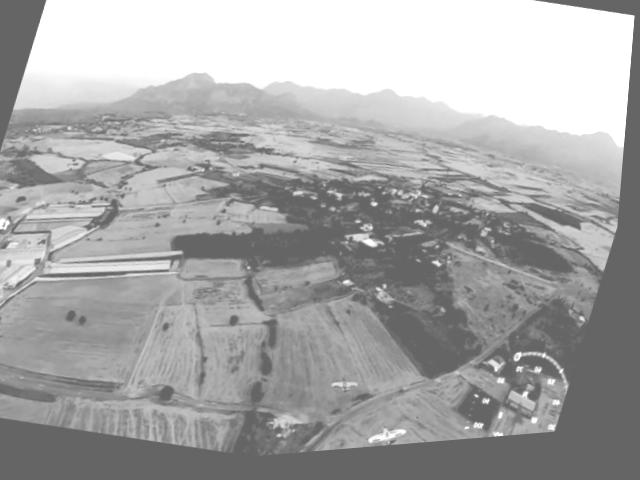hedef: (368, 420, 419, 454), (333, 377, 368, 407)
